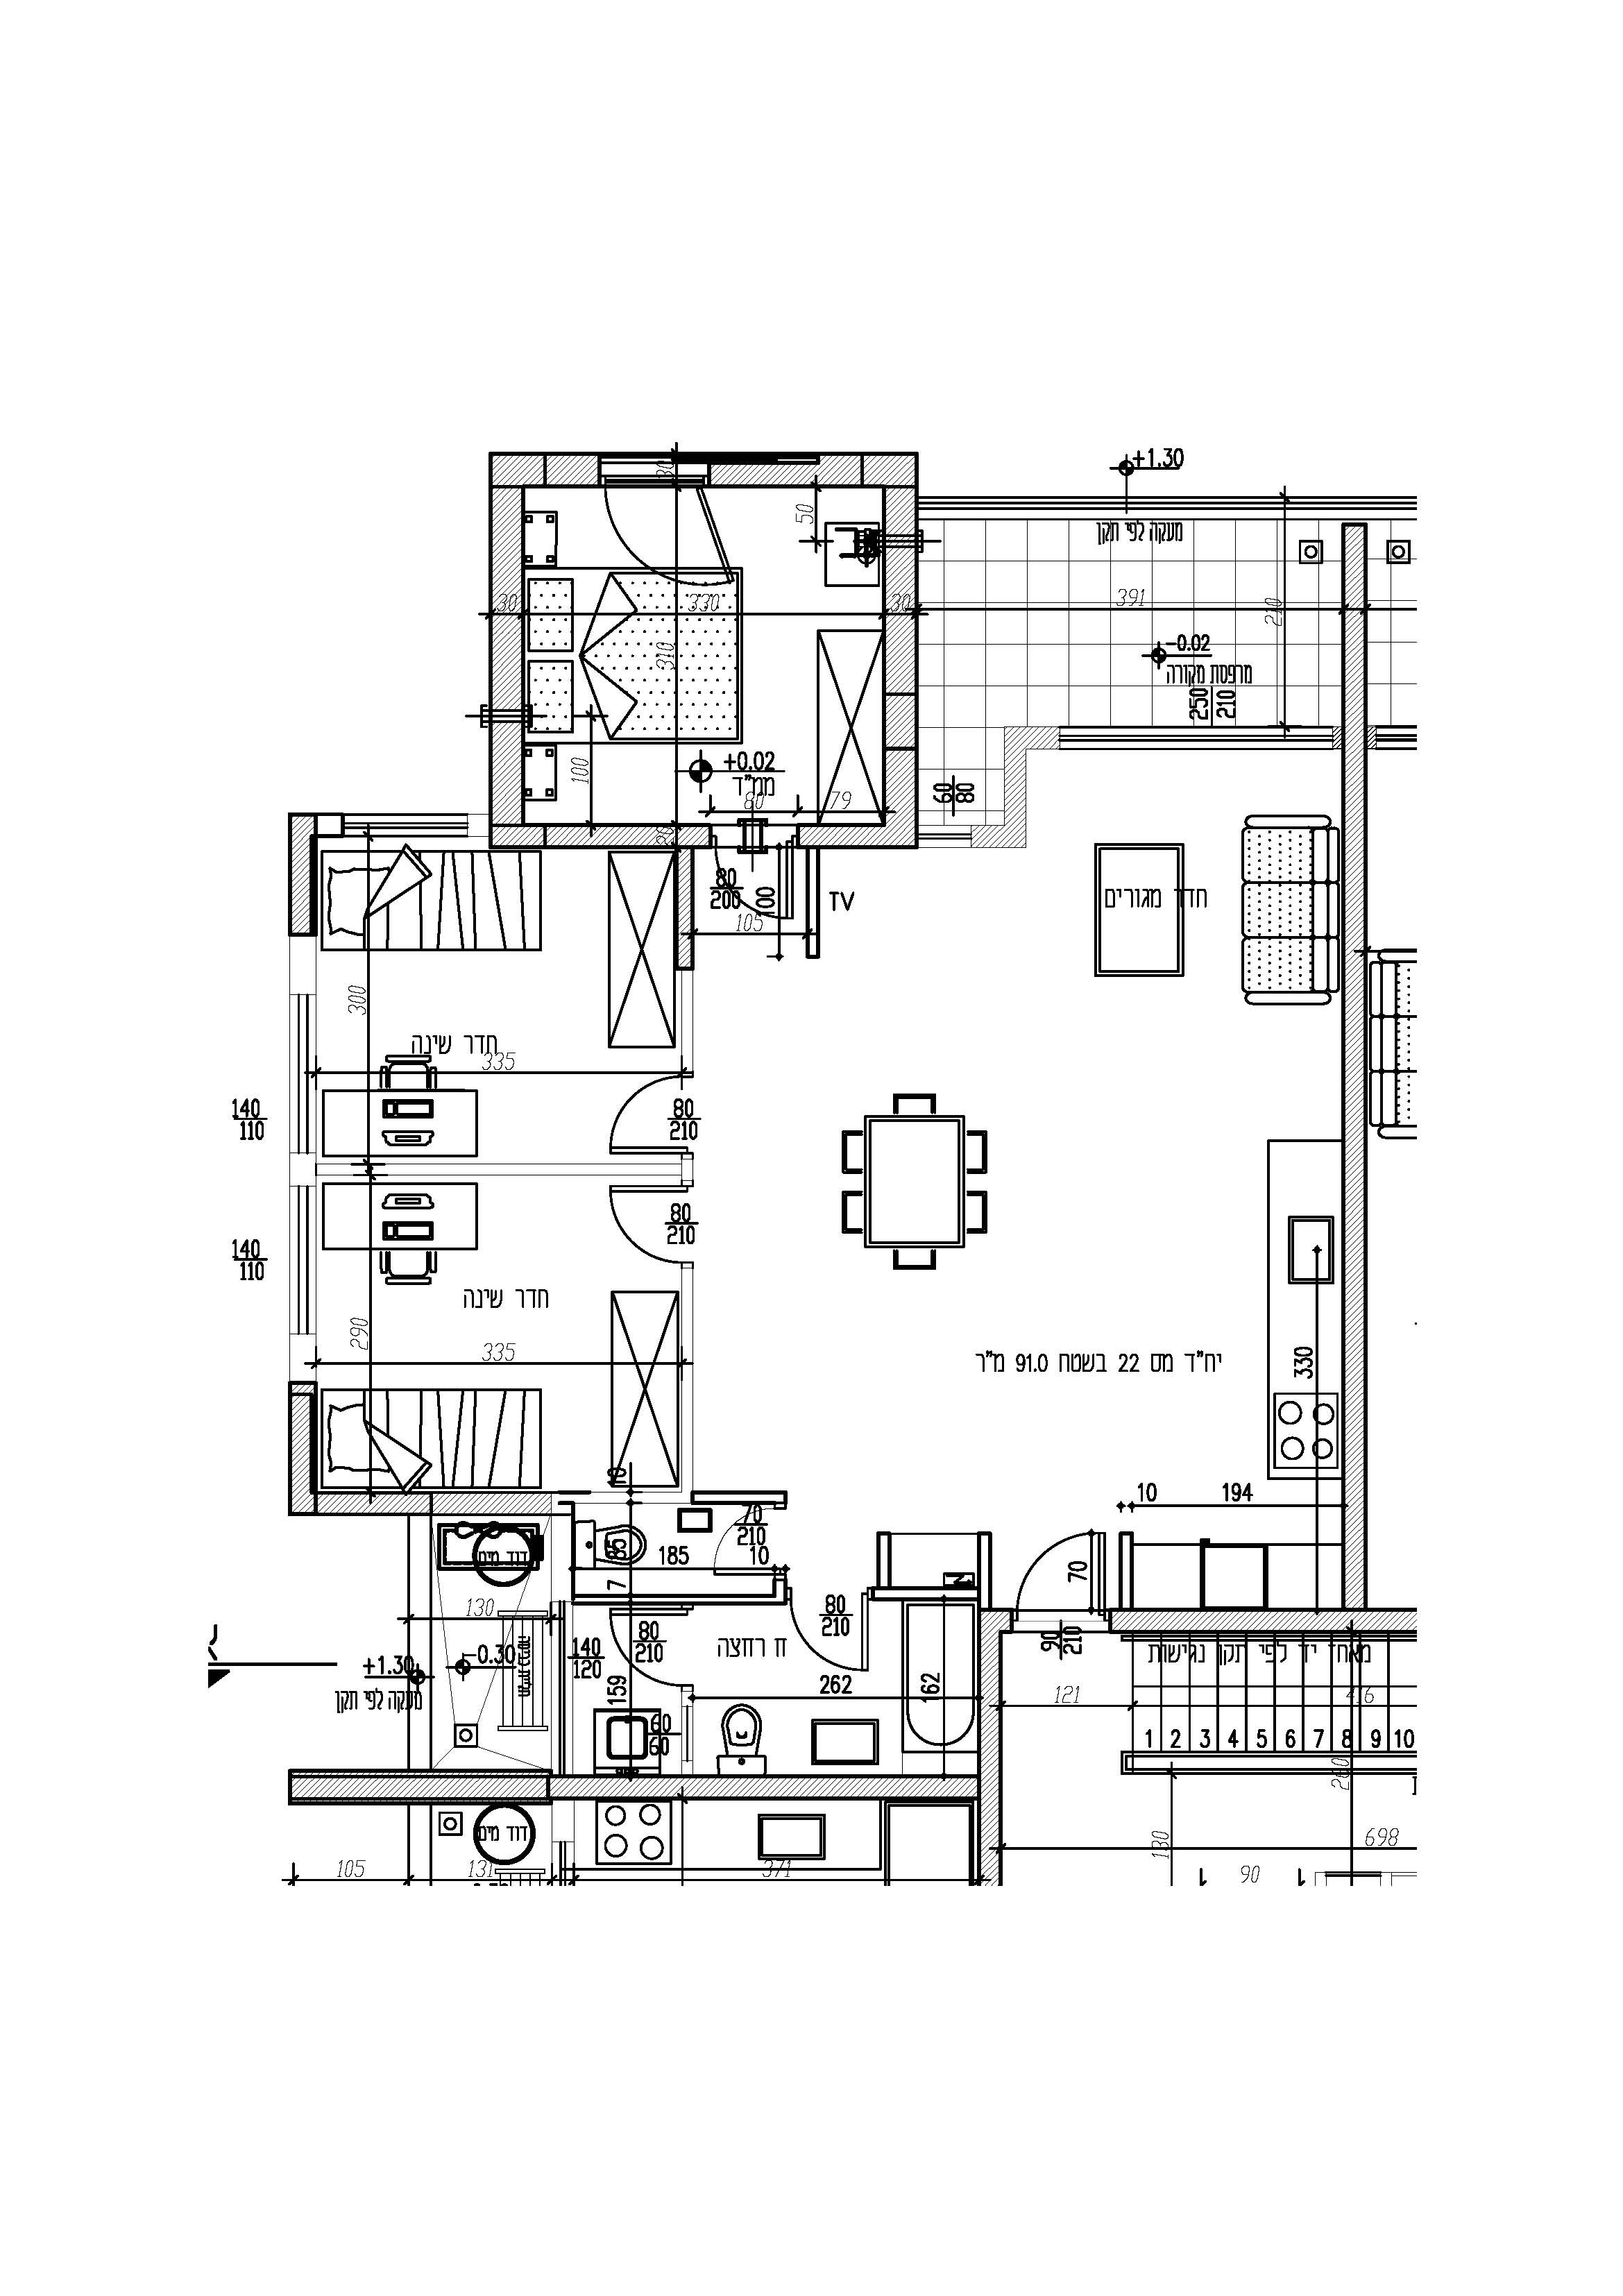door: (783, 1604, 875, 1685), (1017, 1523, 1108, 1604), (599, 1180, 676, 1261), (601, 1077, 678, 1158), (604, 1607, 680, 1688), (701, 1505, 776, 1586)
wall: (1342, 525, 1367, 1609), (882, 455, 915, 845), (490, 455, 525, 611), (982, 1613, 999, 1885), (290, 1493, 550, 1511)
window: (1059, 727, 1337, 748), (290, 996, 318, 1151), (290, 1186, 318, 1335)
